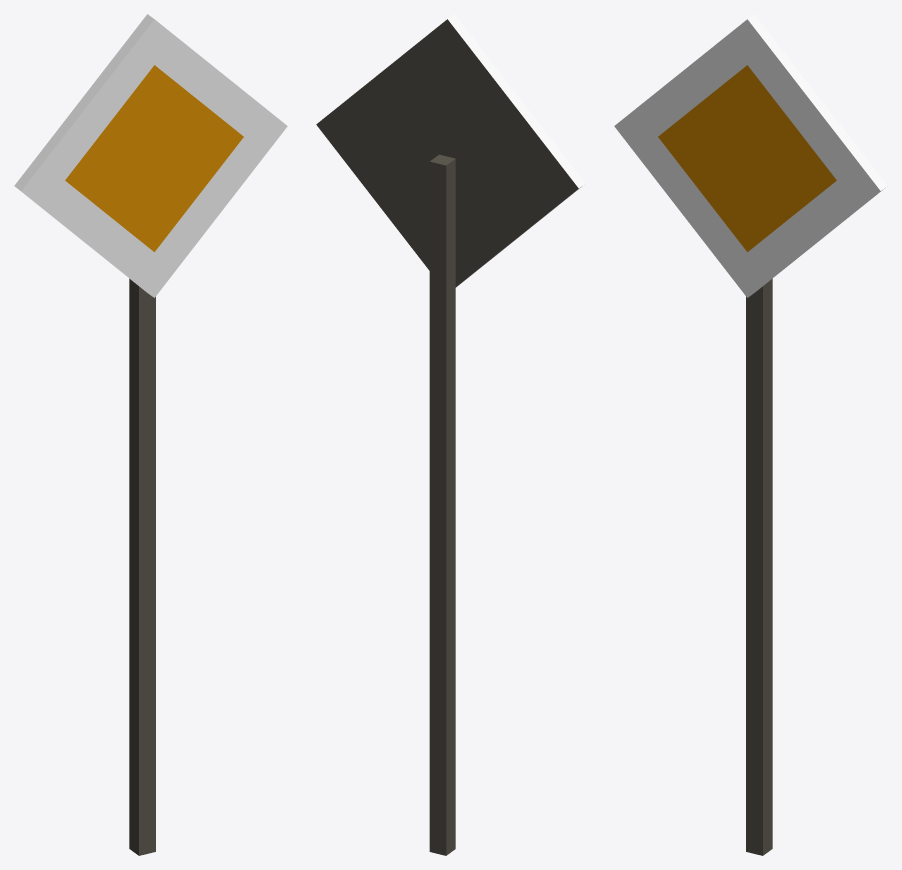
Rendered from CitySignPriority.fbx.
The picture shows the model from 3 angles, left to right: view 1: azimuth 30°, elevation 25°; view 2: azimuth 150°, elevation 25°; view 3: azimuth 330°, elevation 25°; orthographic projection.
Visible parts, largest first — view 1: CitySignPriority; view 2: CitySignPriority; view 3: CitySignPriority.
Part boxes in pixels (x1,y1,x2,y2): CitySignPriority: (14, 14, 287, 855); CitySignPriority: (316, 14, 585, 855); CitySignPriority: (614, 14, 887, 855).
Size of the model in its own units: 0.1436 by 0.4323 by 0.0156.
